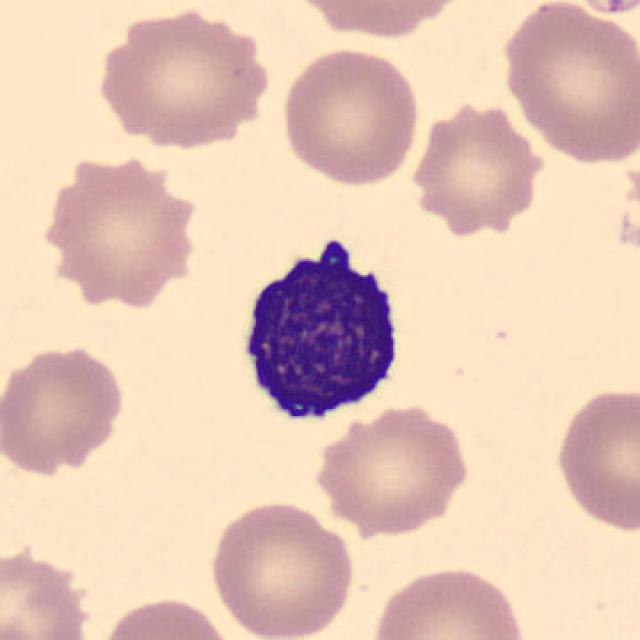Lymphocyte: (224, 225, 416, 436)
RBC: (90, 3, 276, 150), (42, 158, 197, 312), (497, 0, 638, 167), (309, 398, 475, 536), (205, 497, 358, 640), (277, 44, 423, 189), (406, 95, 550, 236), (0, 338, 130, 479), (550, 383, 638, 536), (368, 562, 532, 640), (0, 541, 100, 640), (279, 0, 473, 41), (92, 592, 240, 640), (556, 0, 640, 18)
